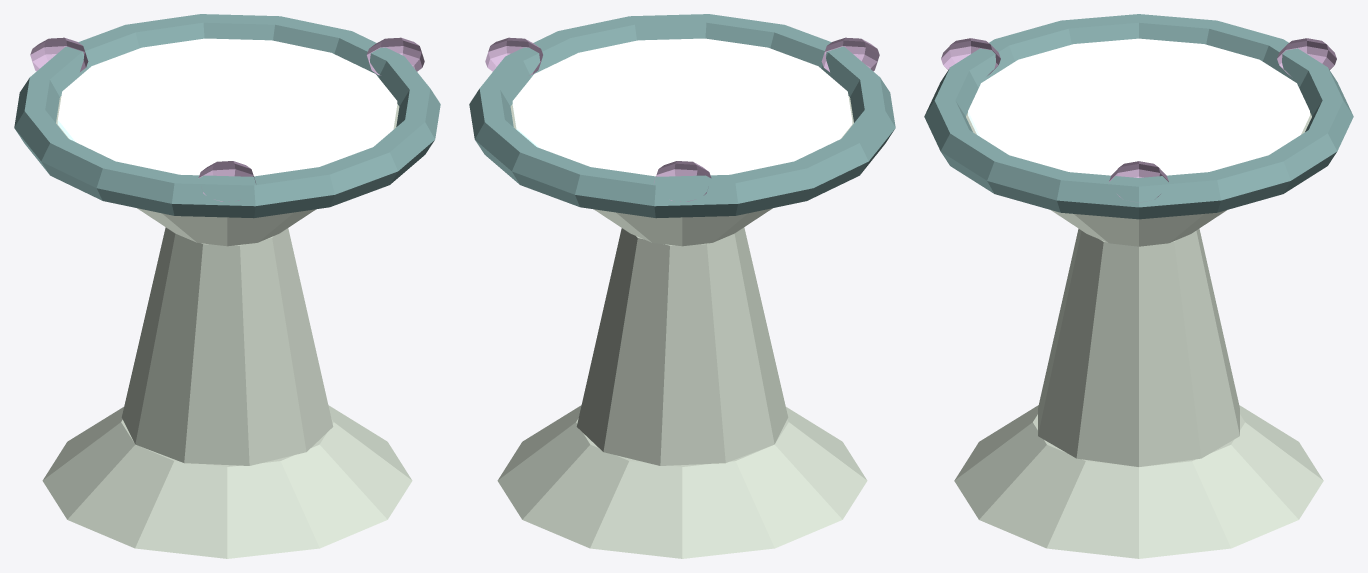
File: runestone-conservatory-lotus-scrying-basin__115.glb
3 renders of one model, left to right at view 1: azimuth 30°, elevation 25°; view 2: azimuth 150°, elevation 25°; view 3: azimuth 270°, elevation 25°, orthographic.
Parts seen in each view (by area): view 1: runestone-conservatory-scrying-basin; view 2: runestone-conservatory-scrying-basin; view 3: runestone-conservatory-scrying-basin.
Boxes of the visible parts, <box> form: runestone-conservatory-scrying-basin: <box>14,14,440,558</box>; runestone-conservatory-scrying-basin: <box>469,14,895,558</box>; runestone-conservatory-scrying-basin: <box>924,14,1353,558</box>.
Bounding box in the file's own units: 0.95 × 0.95 × 0.93.
